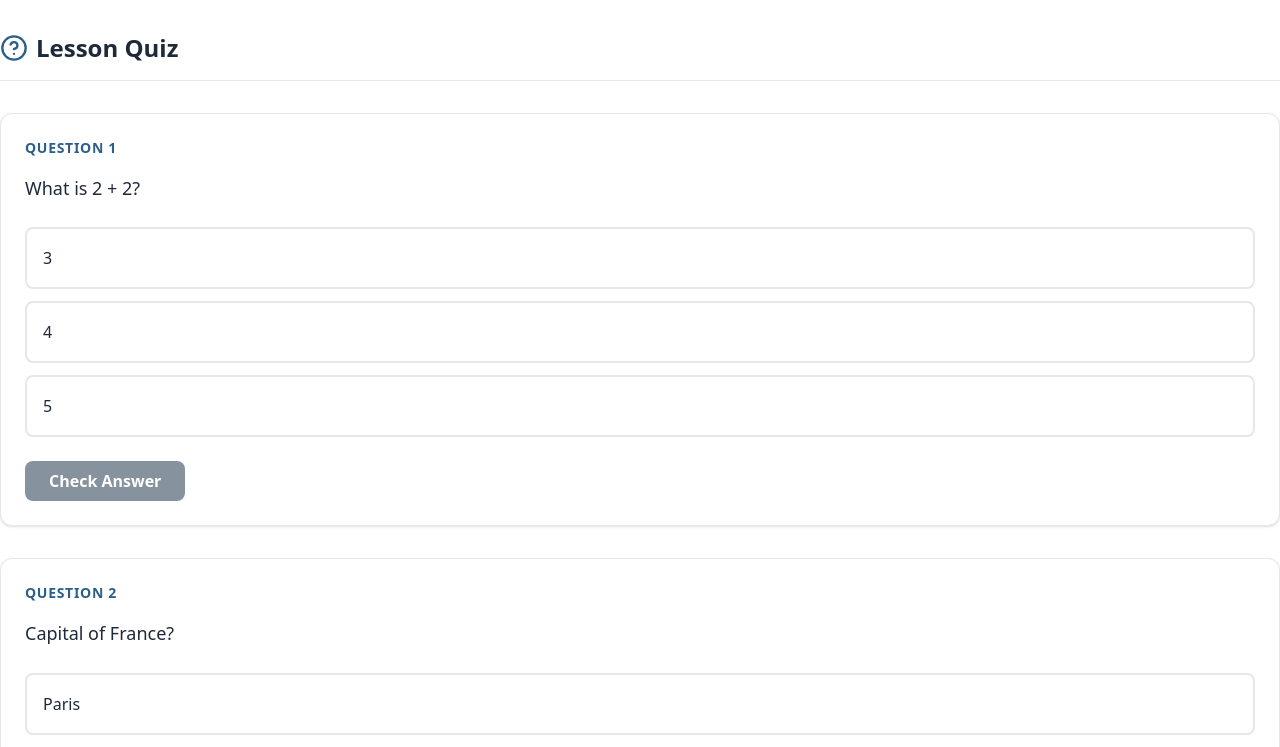
QuizComponent › shows progressive hints on incorrect attempts
What coordinates should you click on to do the following:
click the button "5"
I would click on:
 (48, 406)
Its box is [25,375,1255,437].
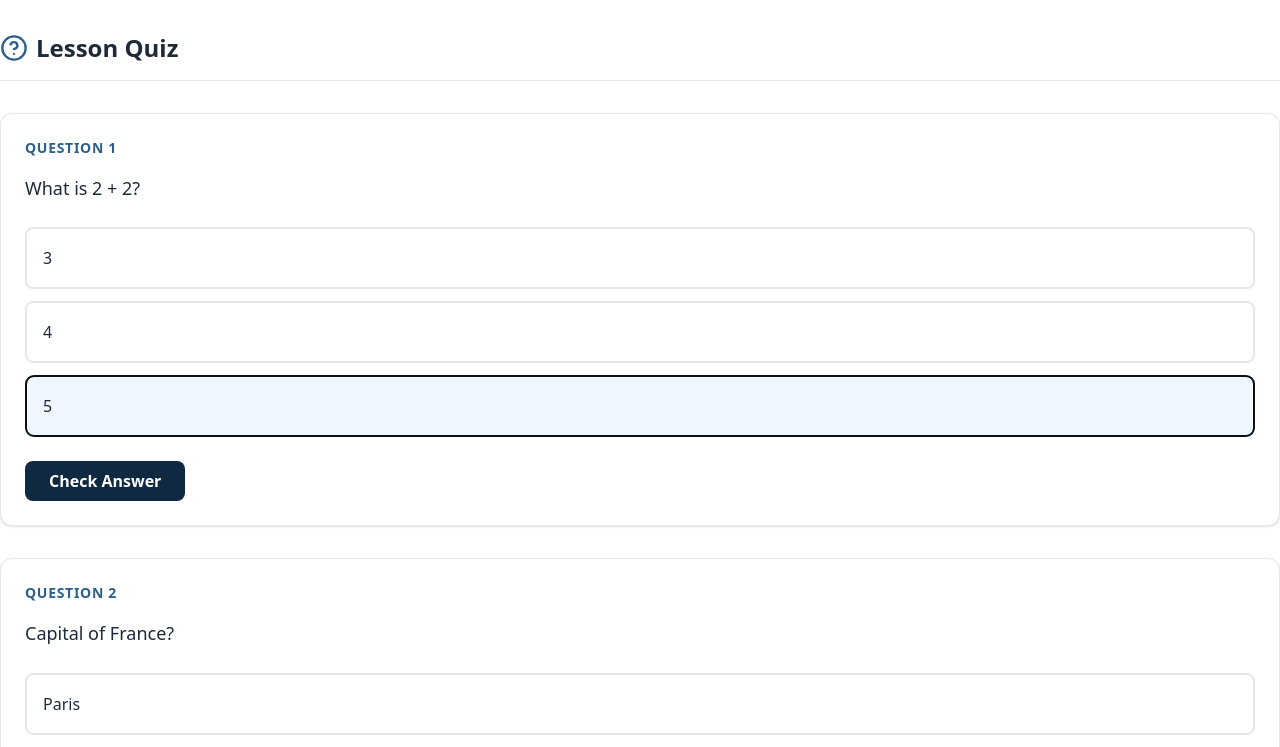
What coordinates should you click on to do the following:
click the button "Check Answer" below "What is 2 + 2?"
I would click on:
 (105, 481)
Its box is [25,461,185,501].
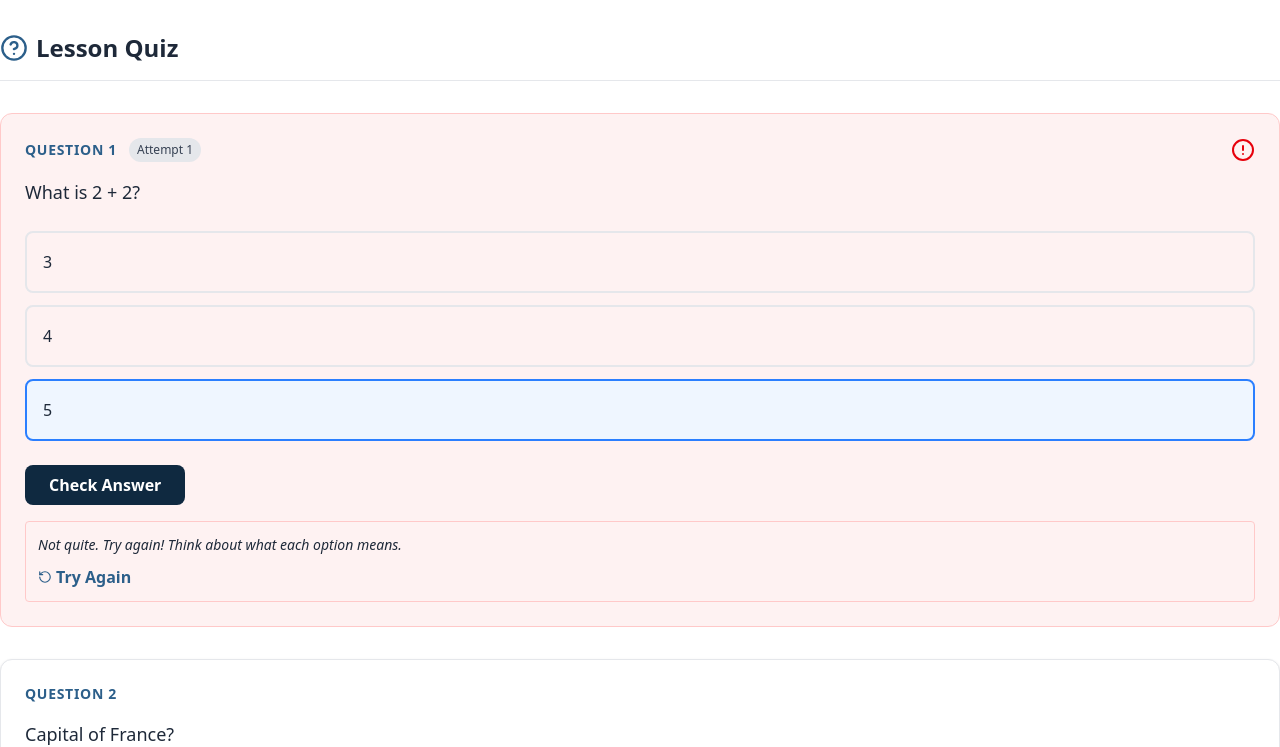
Check: the text "Not quite. Try again! Think about what each option means." is shown, box [38,535,402,554]
What coordinates should you click on to do the following:
click the button "Check Answer"
I would click on:
 (105, 485)
Its box is [25,465,185,505].
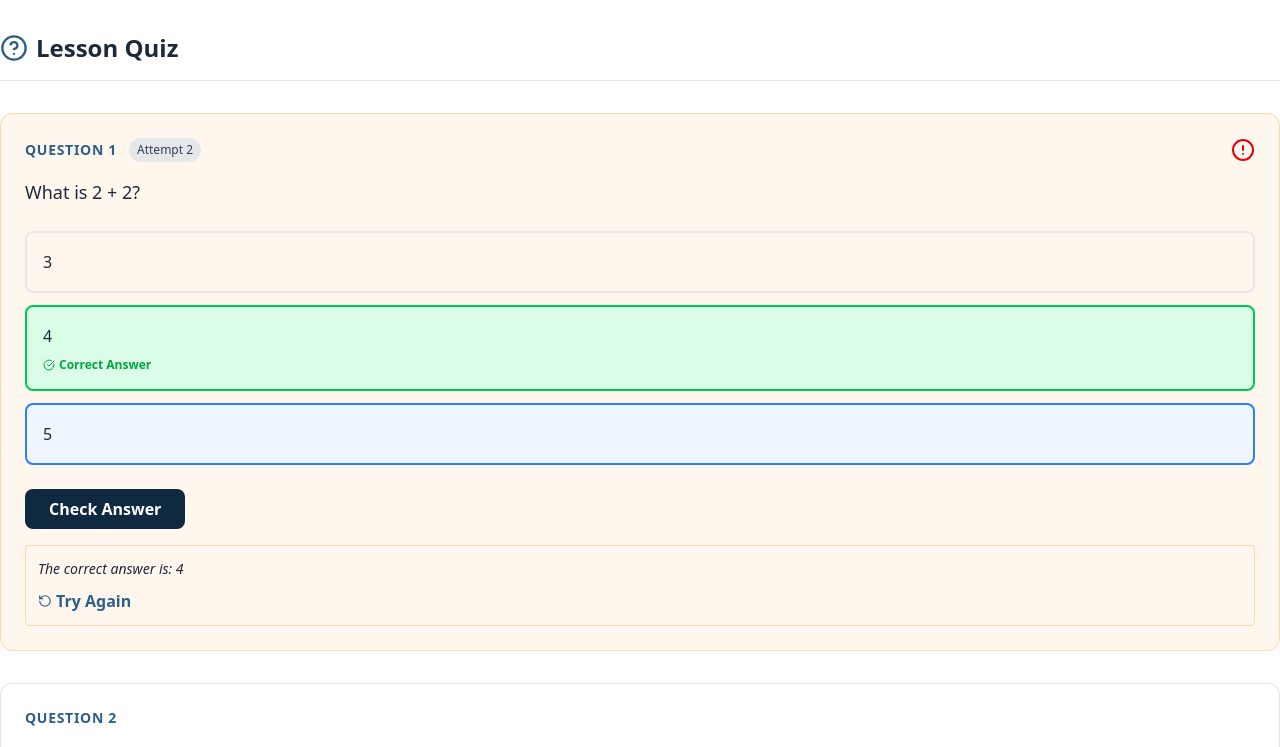
Check: the text "The correct answer is: 4" is shown, box [38,559,184,578]
